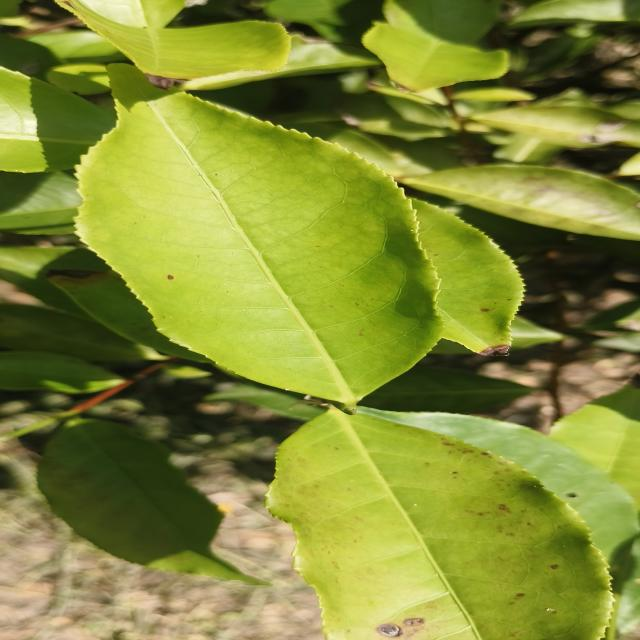Leaf: (77, 65, 441, 408), (267, 409, 610, 640), (360, 407, 638, 560), (38, 419, 268, 584), (55, 0, 290, 79), (403, 165, 640, 240), (412, 199, 523, 355), (48, 270, 212, 363), (0, 68, 114, 173), (549, 381, 640, 508), (181, 35, 381, 90), (363, 22, 508, 92), (0, 304, 164, 360), (361, 365, 533, 413), (473, 104, 640, 148), (383, 0, 500, 45), (341, 93, 450, 141), (0, 351, 123, 393), (0, 172, 82, 229), (206, 385, 326, 420)
